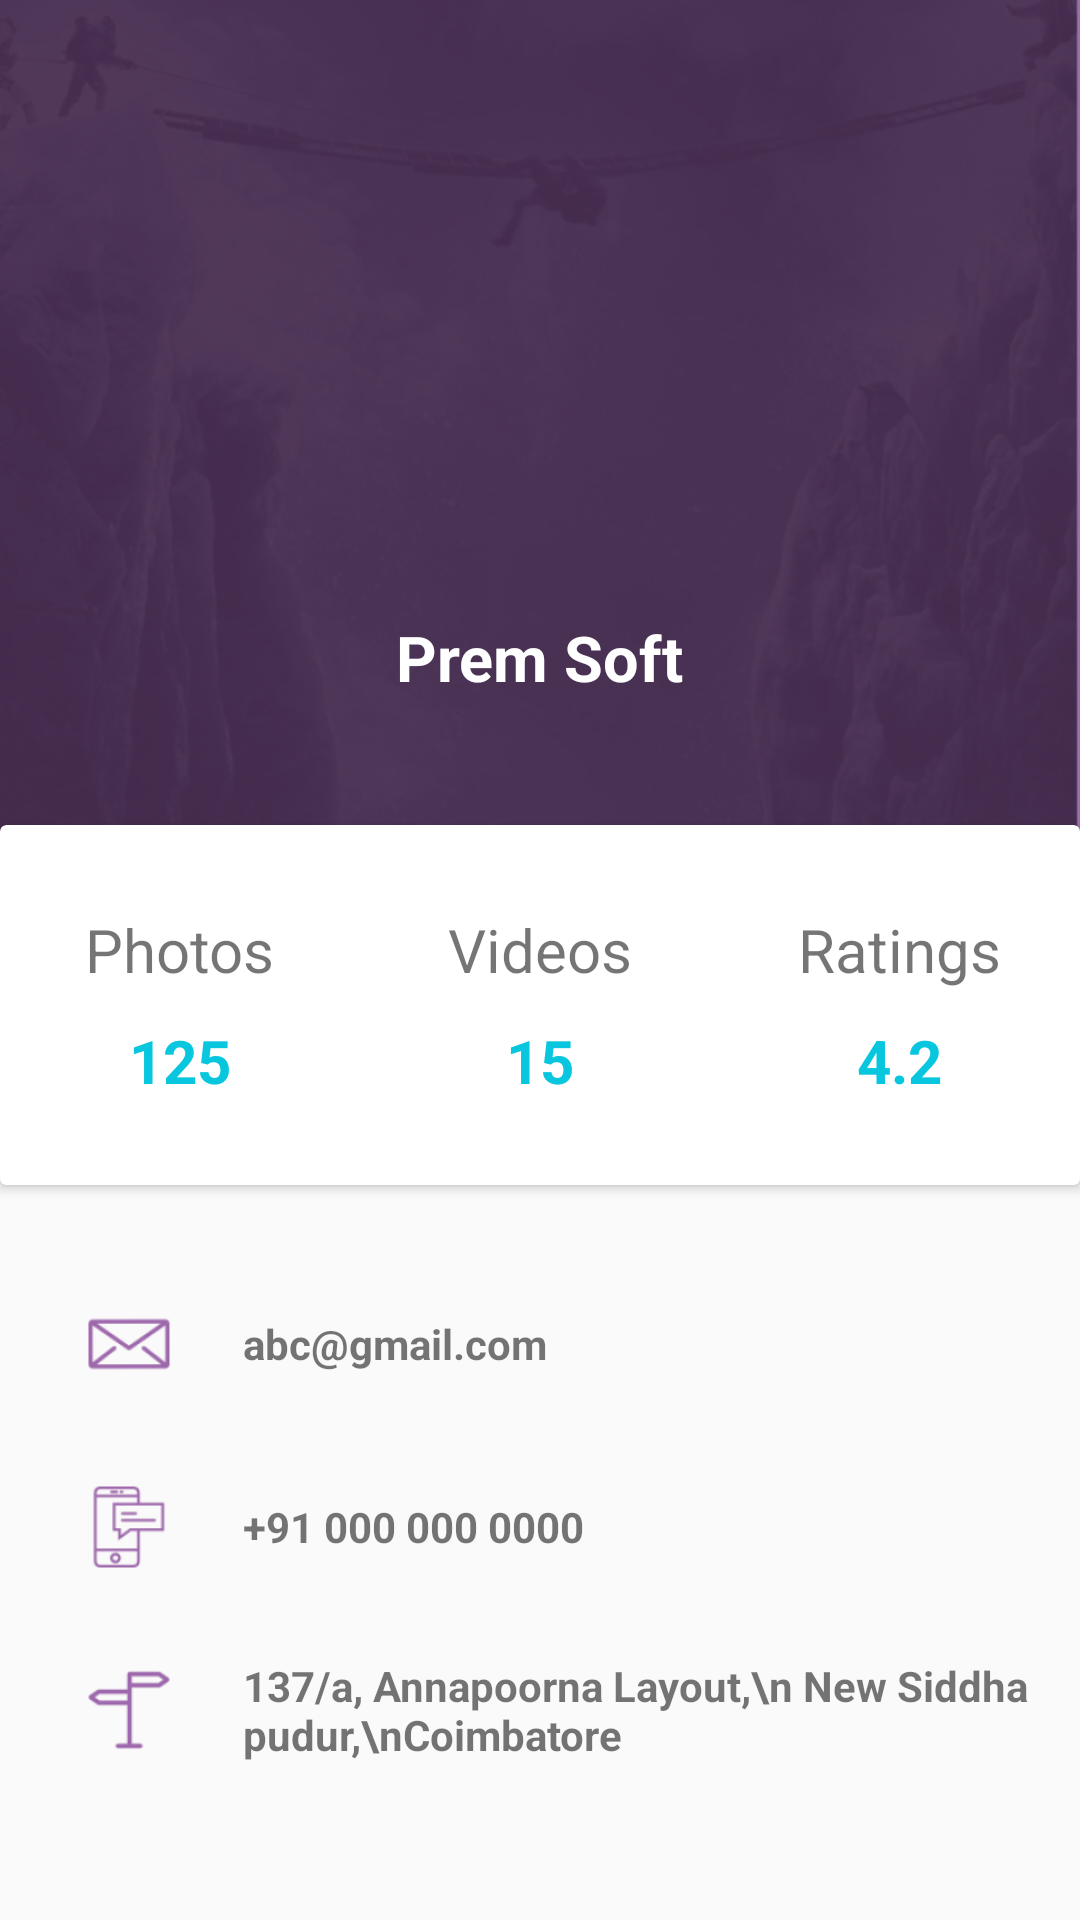

Named icons in this screenshot (1080w x 1920h) and their centers, [x,y]:
address: [129,1710]
email: [129,1344]
smart phone: [129,1527]
